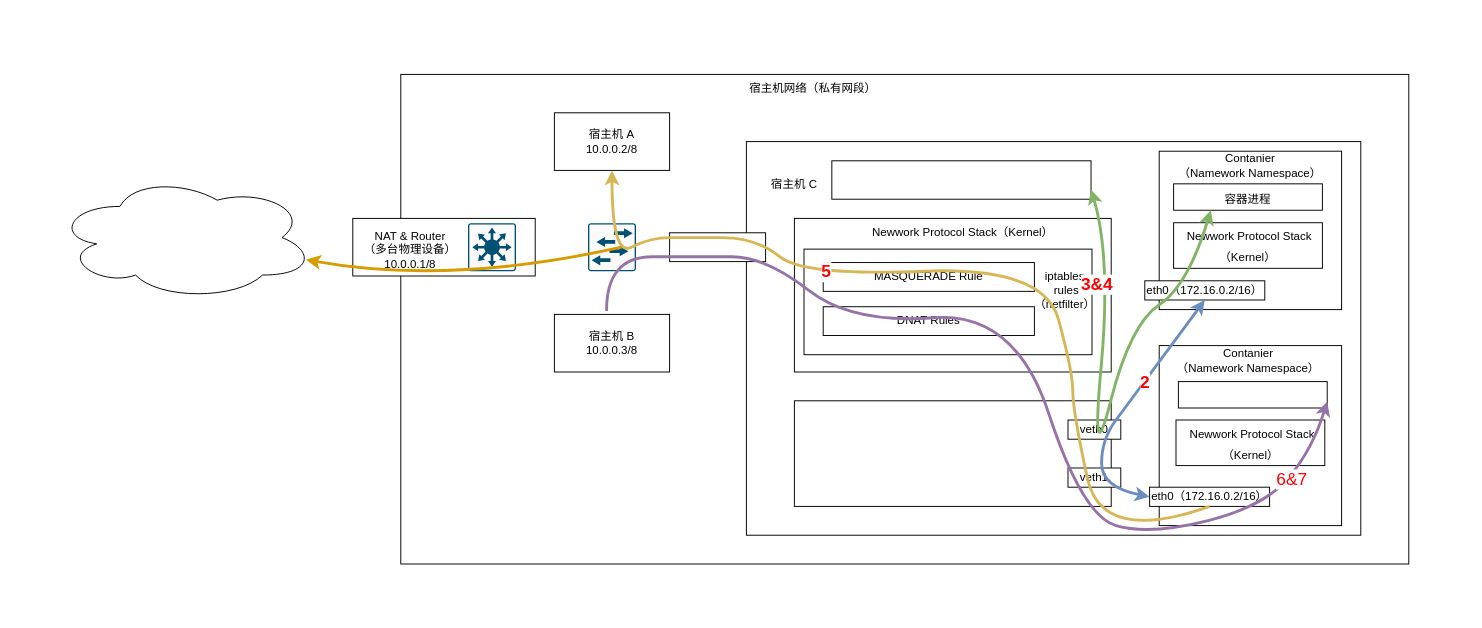
The diagram is 1482 pixels wide and 628 high, and some of its shapes have lost their labels. Each missing label, with the box of its shape:
Bridge（虚拟设备） 172.16.0.1/16: (793, 400, 1111, 506)
eth0（物理网卡） 10.0.0.4/8: (669, 232, 766, 262)
公网: (54, 174, 314, 300)
容器进程（监听某端口）: (1177, 381, 1327, 408)
宿主机进程: (831, 160, 1091, 199)
